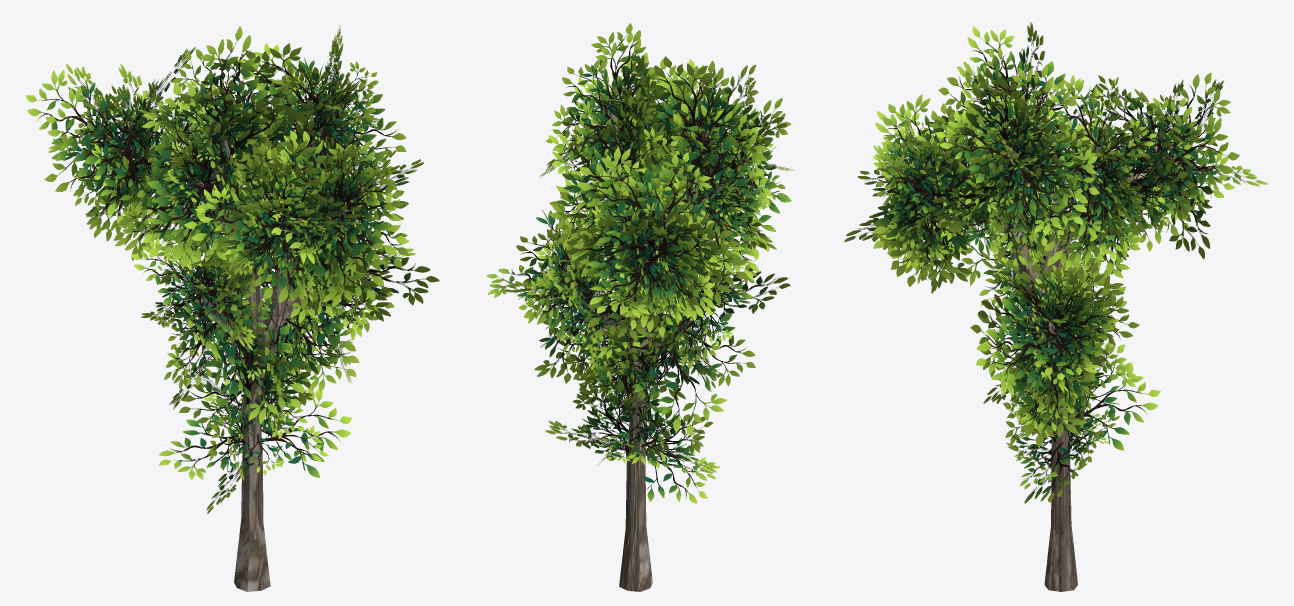
The model's file is tree01.fbx.
3 views of the same model, side by side, from view 1: azimuth 30°, elevation 25°; view 2: azimuth 150°, elevation 25°; view 3: azimuth 270°, elevation 25° (orthographic). The views are drawn at different scales.
Visible parts, largest first — view 1: tree1; view 2: tree1; view 3: tree1.
Boxes of the visible parts, left/top/right/bottom form: tree1: left=25, top=25, right=439, bottom=591; tree1: left=486, top=23, right=793, bottom=591; tree1: left=844, top=22, right=1268, bottom=591.
Bounding box in the file's own units: 4.46 × 7.49 × 5.56.
Materials: 2 (2 with a texture image).
